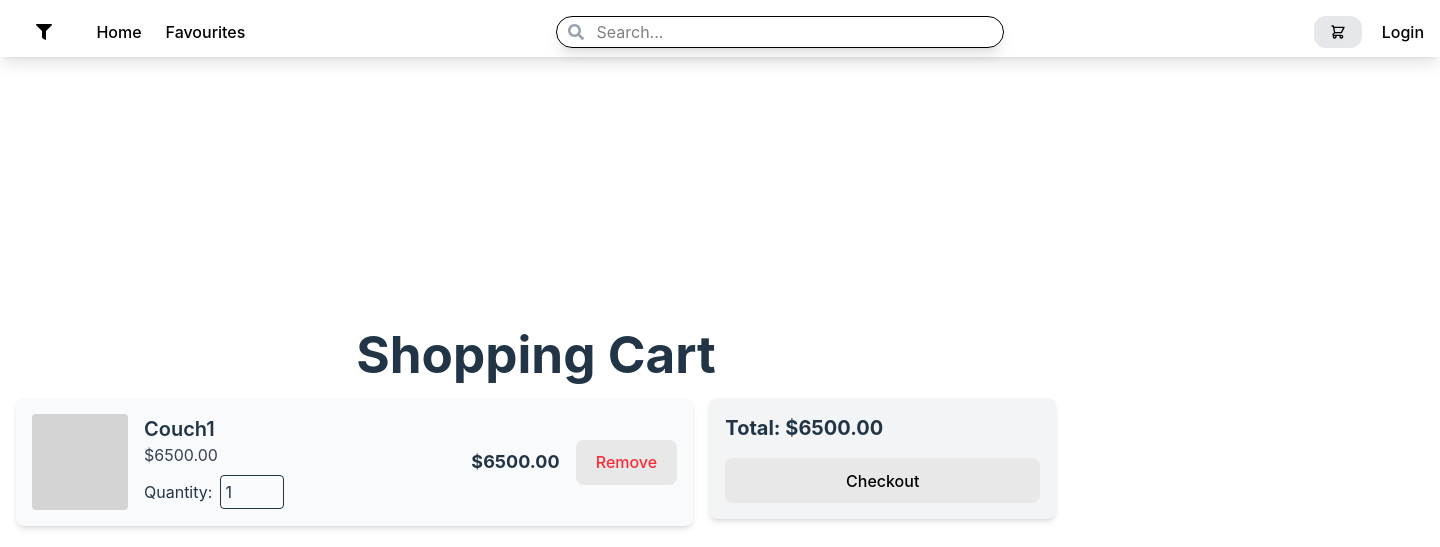
Scenario: CartPage › removes item from cart correctly
The image size is (1440, 547).
Click the button "Remove" at x=626, y=462, box [576,440,677,485]
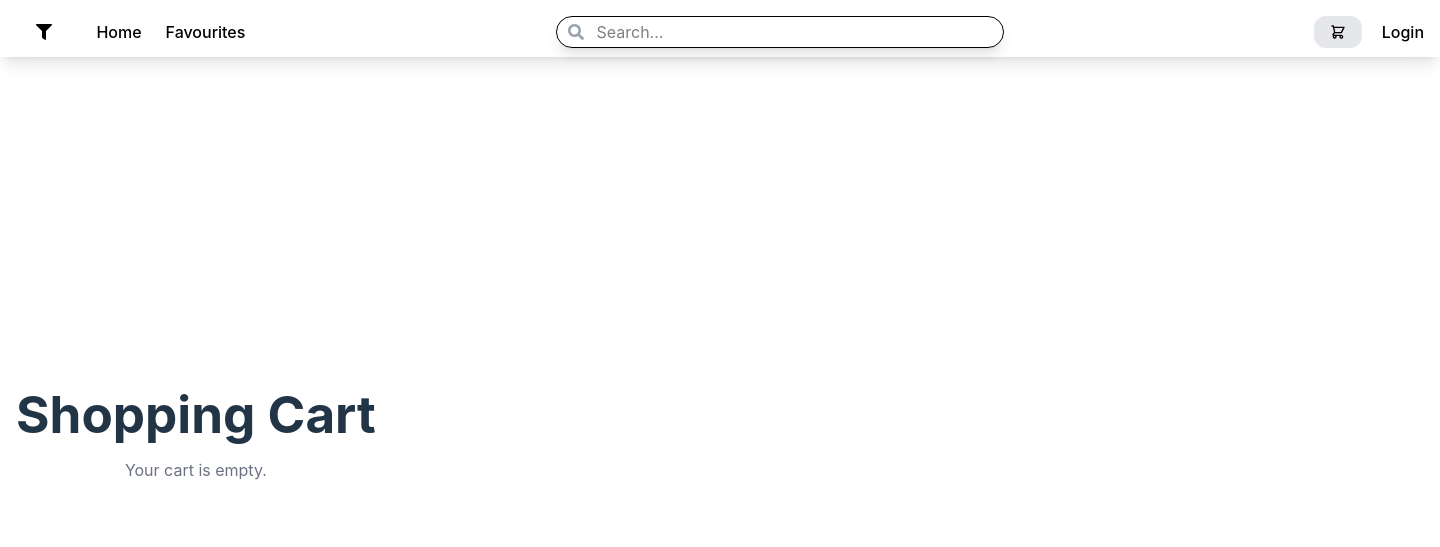
Check: the text "Your cart is empty." is shown, box [125,460,267,480]
